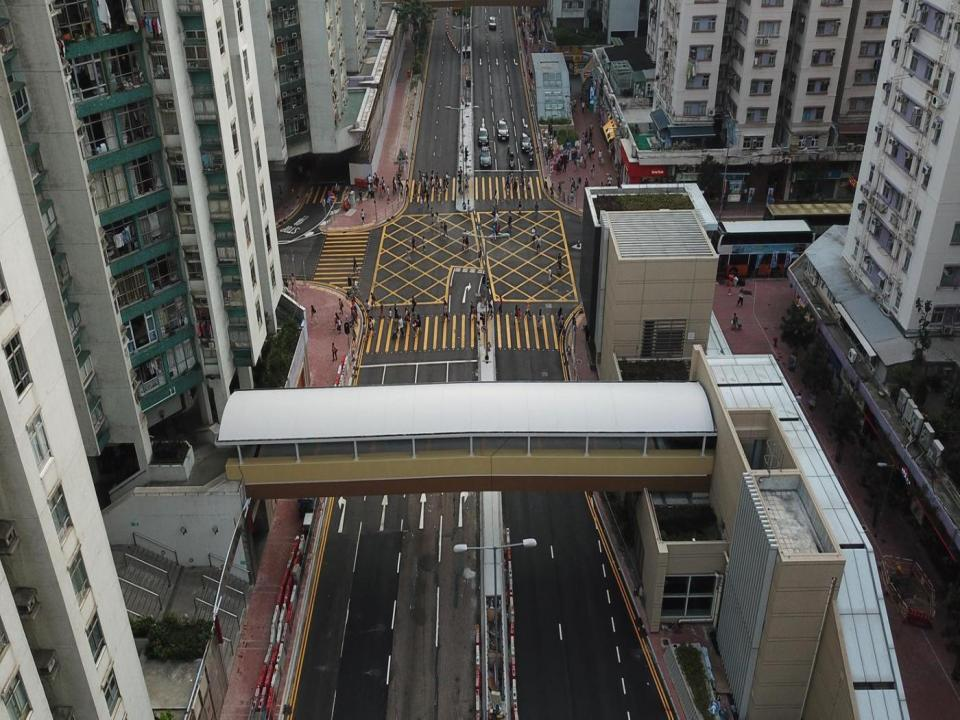bus: (708, 219, 816, 279), (762, 202, 870, 255)
car: (497, 118, 510, 140), (520, 132, 533, 154), (479, 146, 492, 167), (477, 127, 490, 147), (489, 16, 496, 29)
